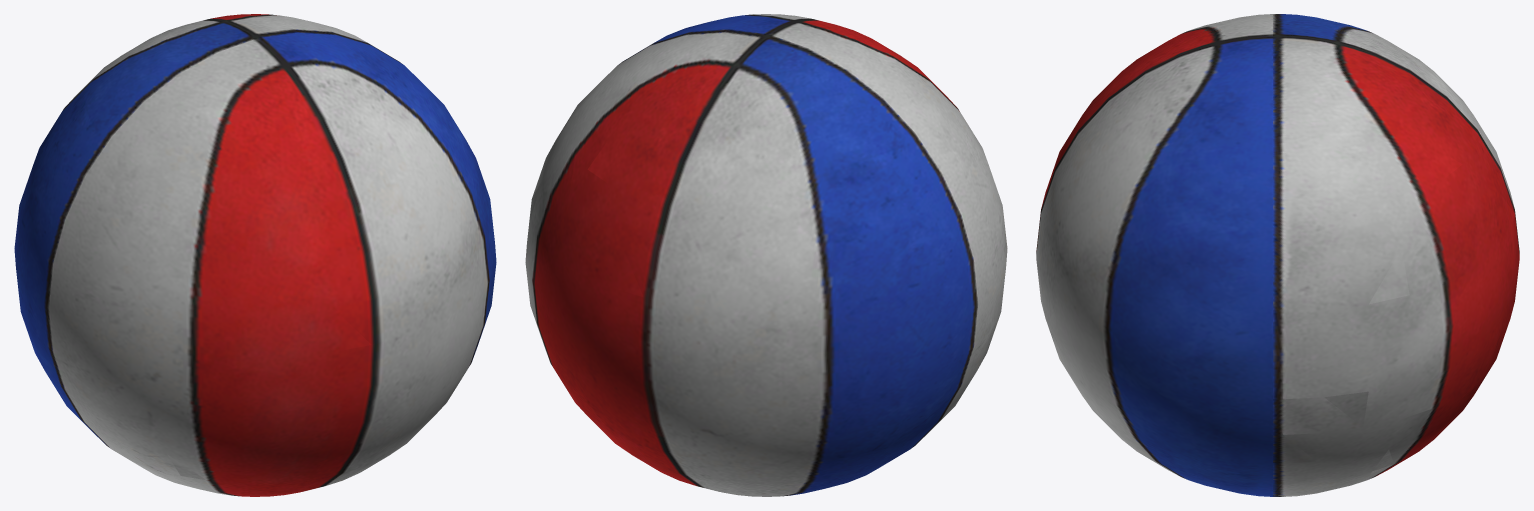
The model's file is Basketball.FBX.
The picture shows the model from 3 angles, left to right: view 1: azimuth 30°, elevation 25°; view 2: azimuth 150°, elevation 25°; view 3: azimuth 270°, elevation 25°; orthographic projection.
Parts seen in each view (by area): view 1: Basketball; view 2: Basketball; view 3: Basketball.
Part boxes in pixels (x1,y1,x2,y2): Basketball: (14,14,496,496); Basketball: (525,14,1007,496); Basketball: (1036,14,1519,496).
Size of the model in its own units: 26.33 by 26.33 by 26.33.
